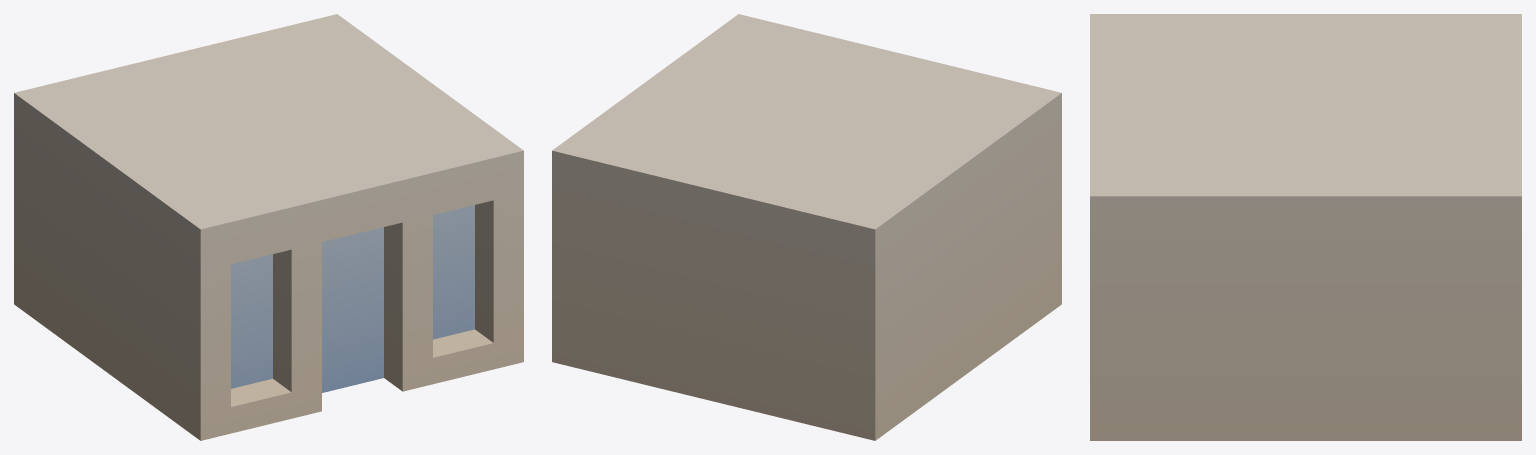
File: building-window-door-window.glb
The picture shows the model from 3 angles, left to right: view 1: azimuth 30°, elevation 25°; view 2: azimuth 150°, elevation 25°; view 3: azimuth 270°, elevation 25°; orthographic projection. The views are drawn at different scales.
Visible parts, largest first — view 1: building-window-door-window; view 2: building-window-door-window; view 3: building-window-door-window.
Part boxes in pixels (box(x1,y1,x2,y2)): building-window-door-window: box(14, 14, 523, 440); building-window-door-window: box(552, 14, 1061, 440); building-window-door-window: box(1090, 14, 1521, 440).
Size of the model in its own units: 1 by 0.625 by 1.
